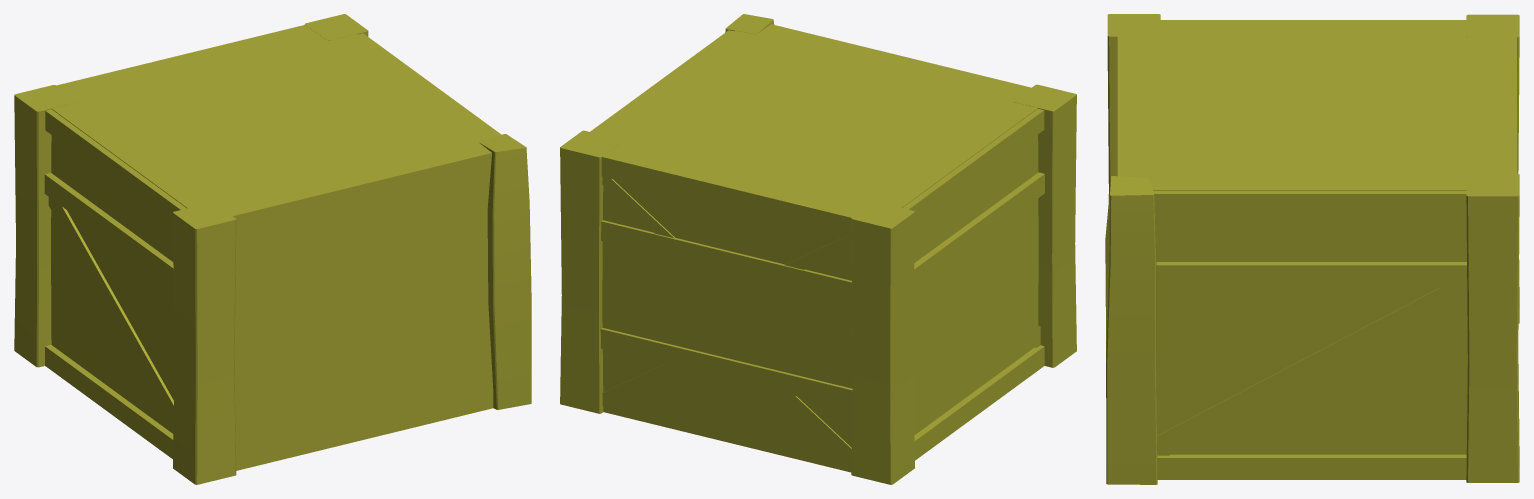
File: House1v2.fbx
The picture shows the model from 3 angles, left to right: view 1: azimuth 30°, elevation 25°; view 2: azimuth 150°, elevation 25°; view 3: azimuth 270°, elevation 25°; orthographic projection. The views are drawn at different scales.
Parts seen in each view (by area): view 1: House1v2; view 2: House1v2; view 3: House1v2.
Boxes of the visible parts, box(x1,y1,x2,y2) form: House1v2: box(14, 14, 531, 484); House1v2: box(560, 14, 1076, 484); House1v2: box(1105, 14, 1519, 484).
Size of the model in its own units: 551 by 404 by 524.
